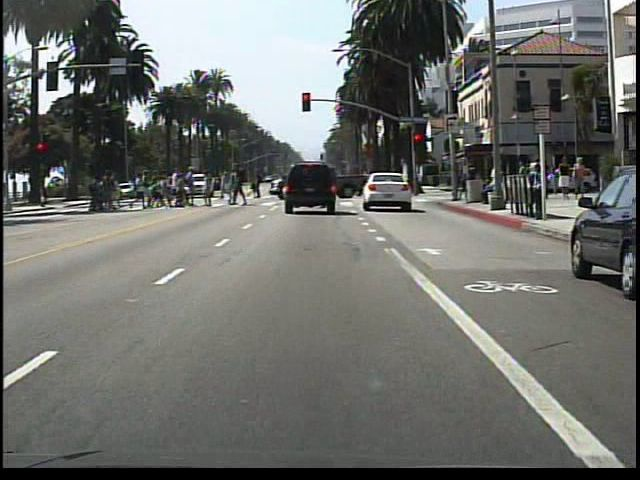person: (525, 159, 544, 223), (572, 154, 590, 202), (556, 155, 574, 201)
